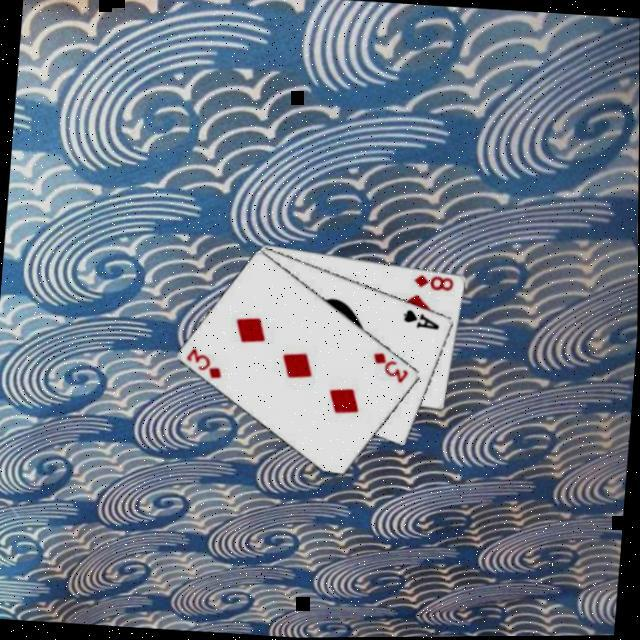3D: (369, 350, 413, 388), (183, 345, 227, 382)
8D: (411, 272, 457, 295)
AS: (401, 307, 445, 334)
